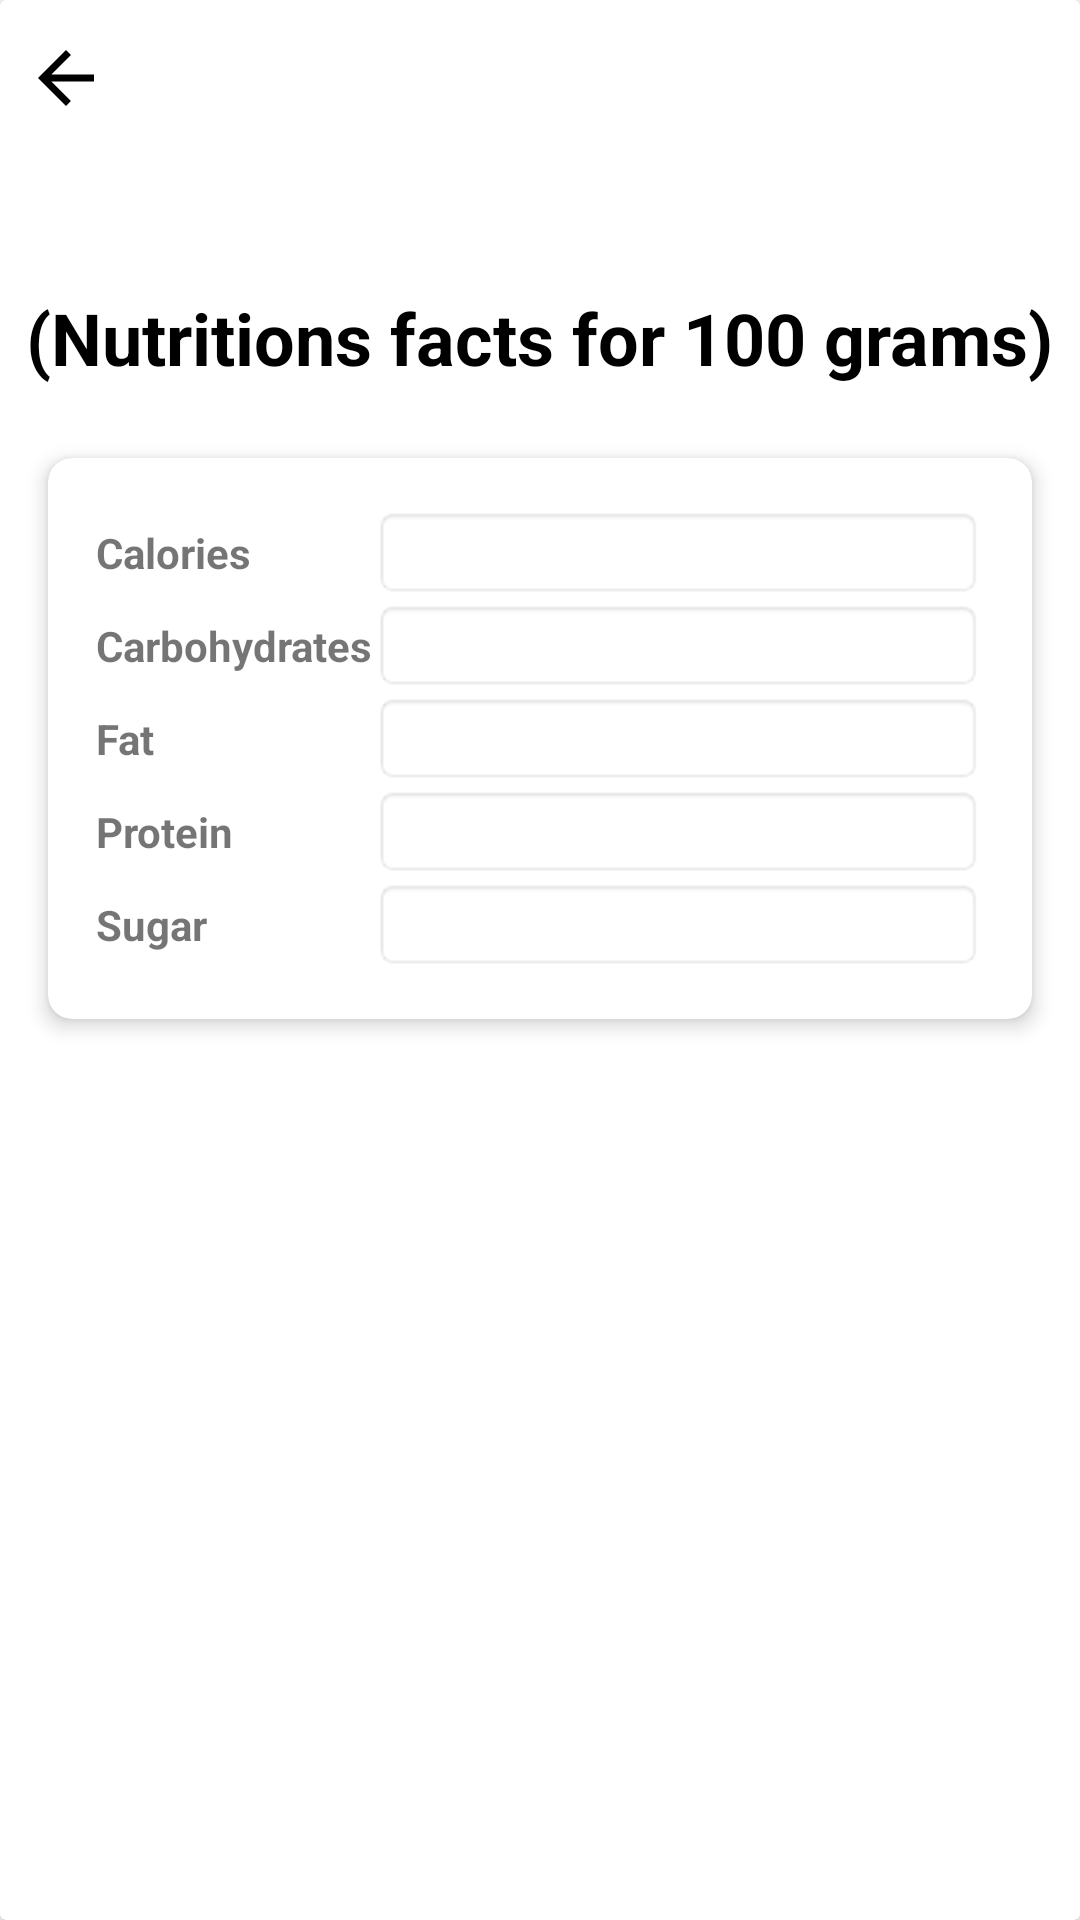

Icons on this 1080 × 1920 Android screen, each with the point to tap as [x,y]:
arrow back: [66,78]
